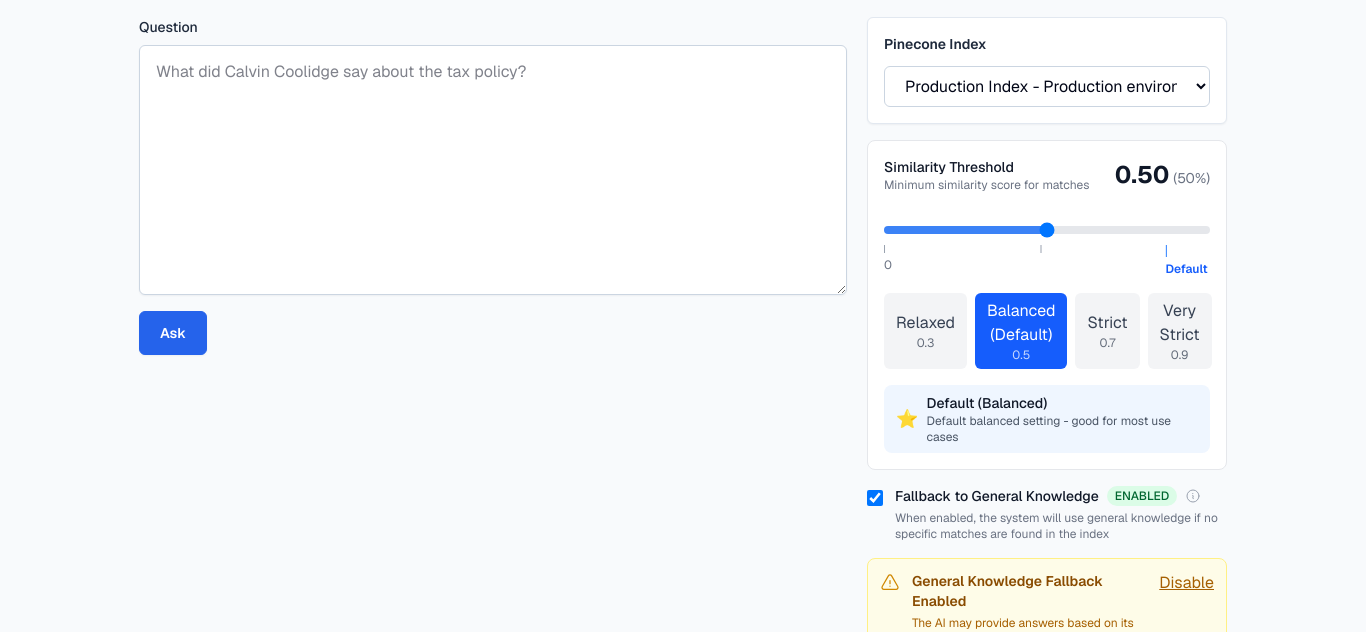
Test: QaClient › API Calls › displays answer when API returns successfully
Type "What is the capital of France?" into the text box with placeholder "What did Calvin Coolidge say about the tax policy?" at (493, 170), box [139, 45, 847, 295]
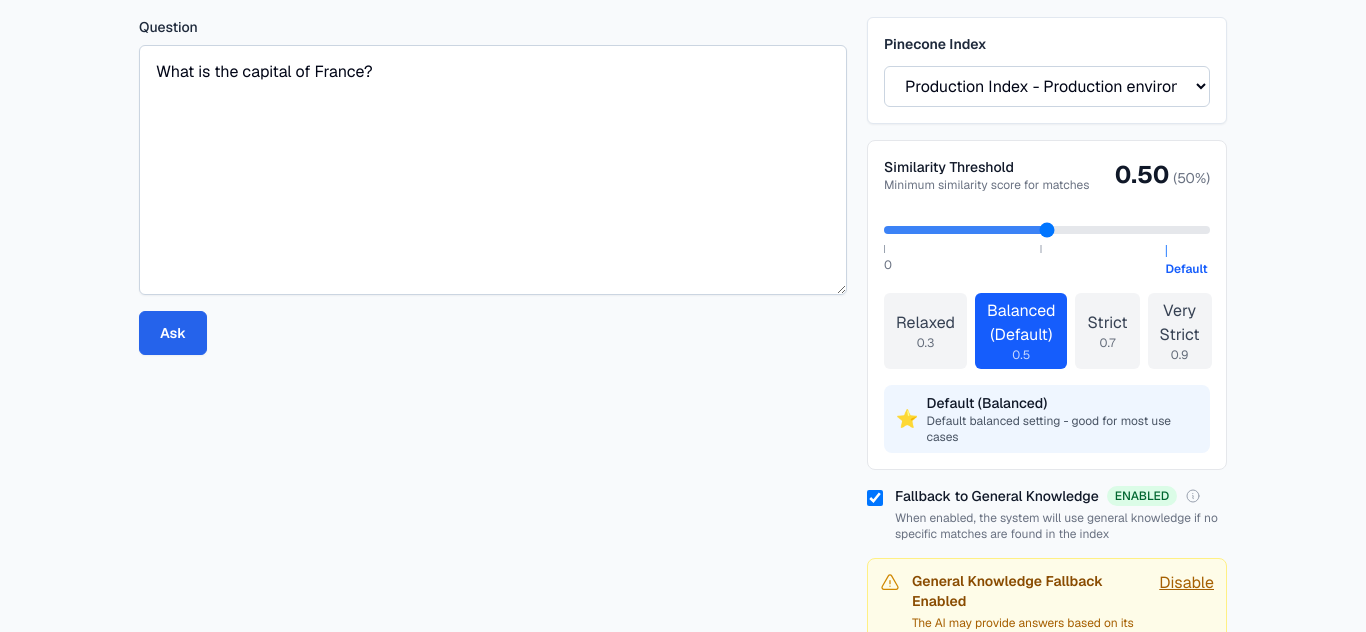
Click the button "Ask" at (173, 333), box [139, 311, 207, 355]
(page scrolled)
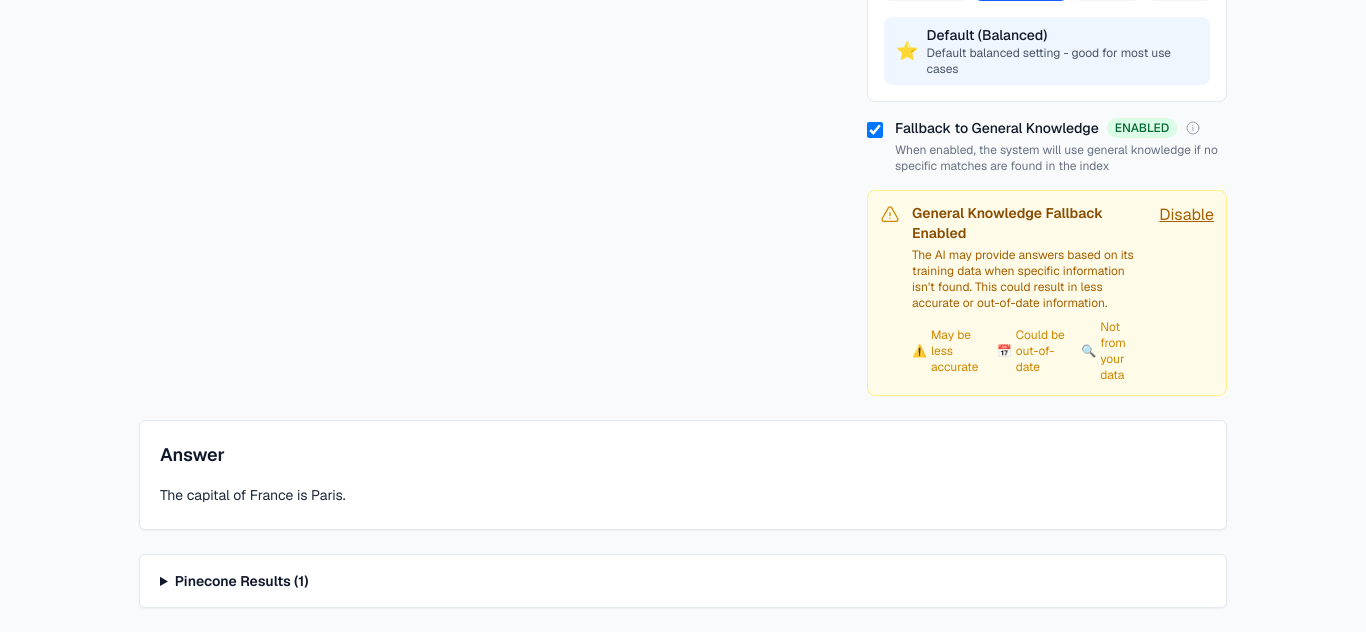
Now the text "The capital of France is Paris." is shown, box [160, 486, 346, 504]
